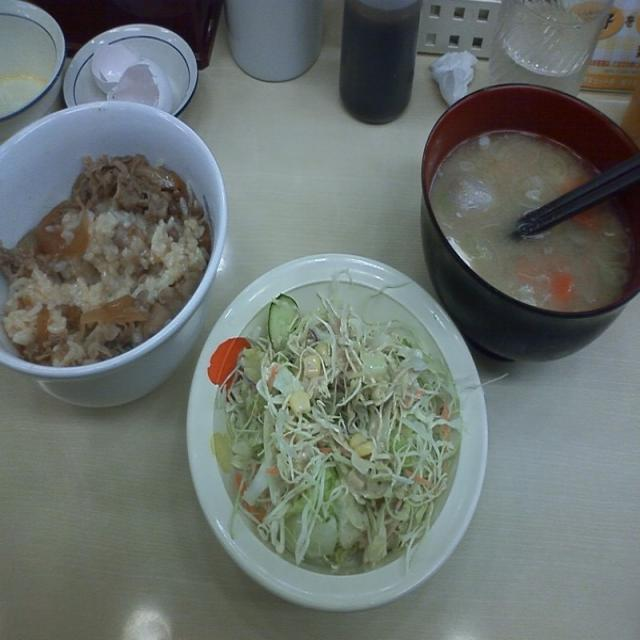Green Salad: (201, 294, 469, 566)
